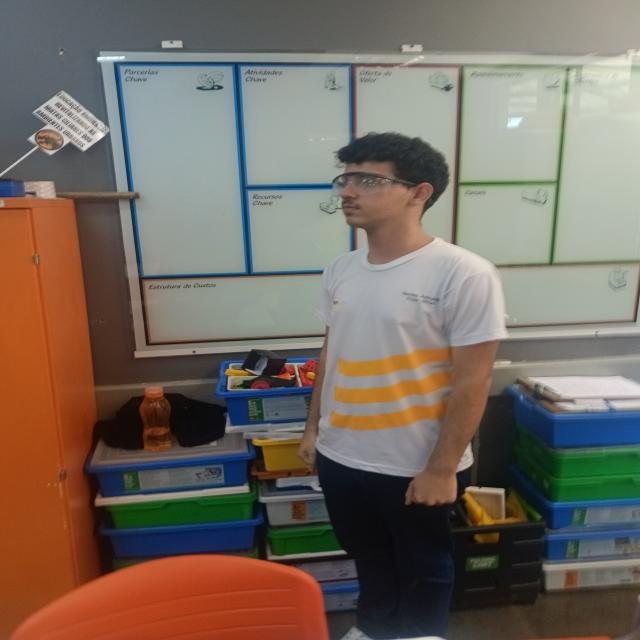oculos-epi: (324, 171, 423, 196)
